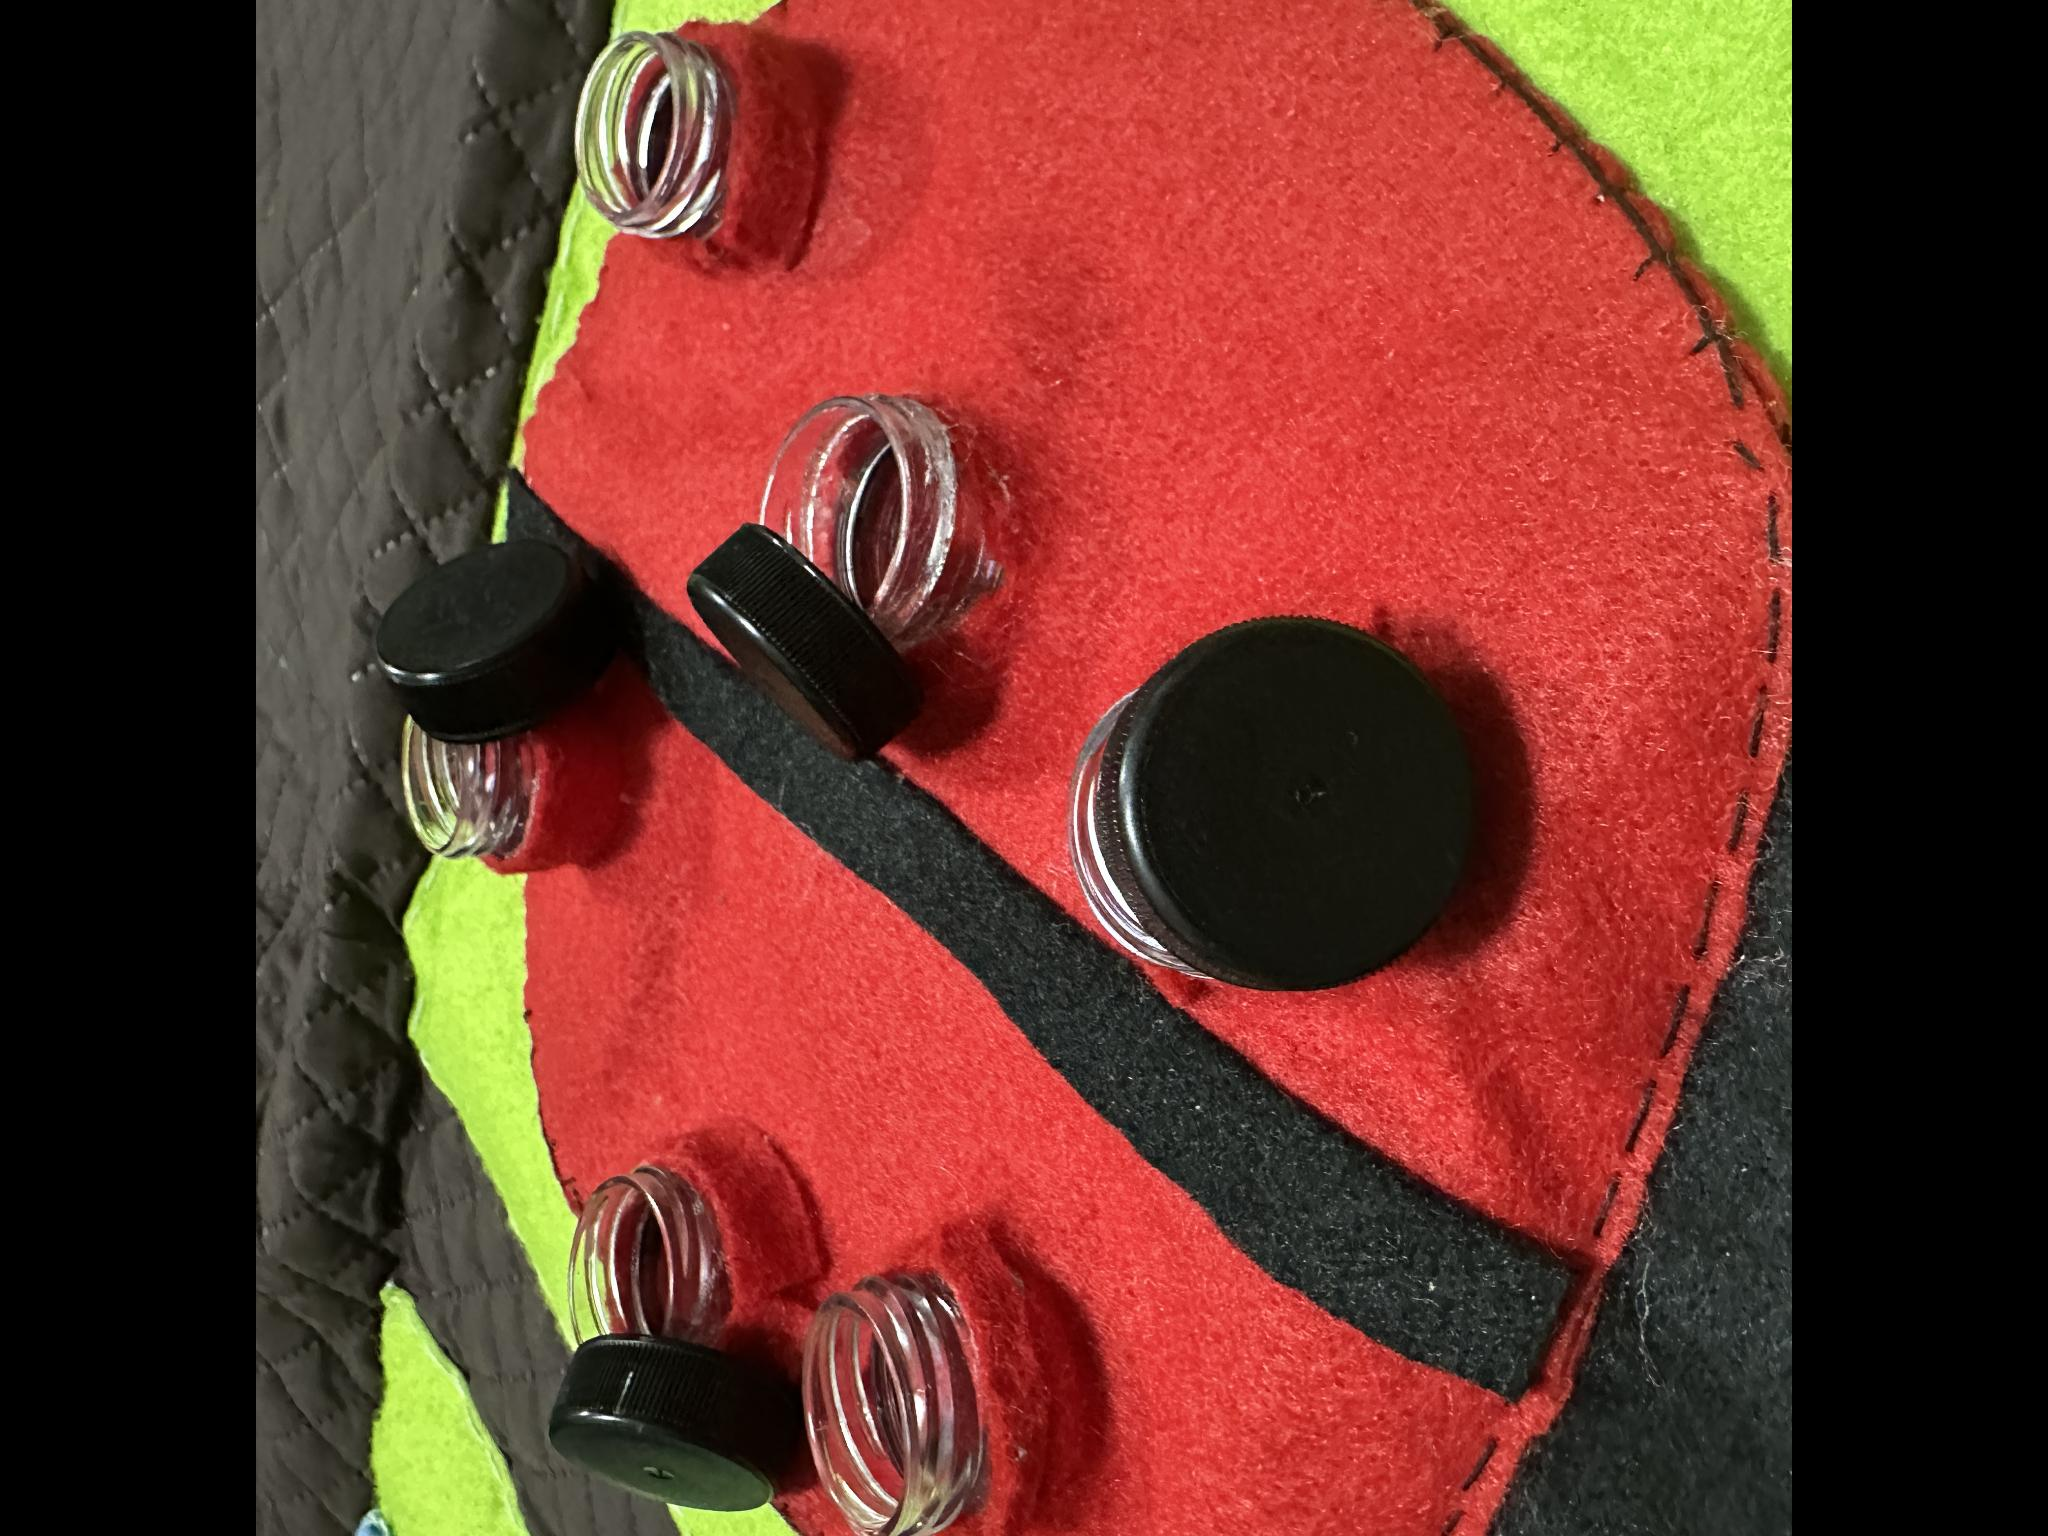cap_ng: (1034, 597, 1509, 1010), (684, 382, 1008, 783), (521, 1123, 814, 1533), (369, 534, 672, 894)
